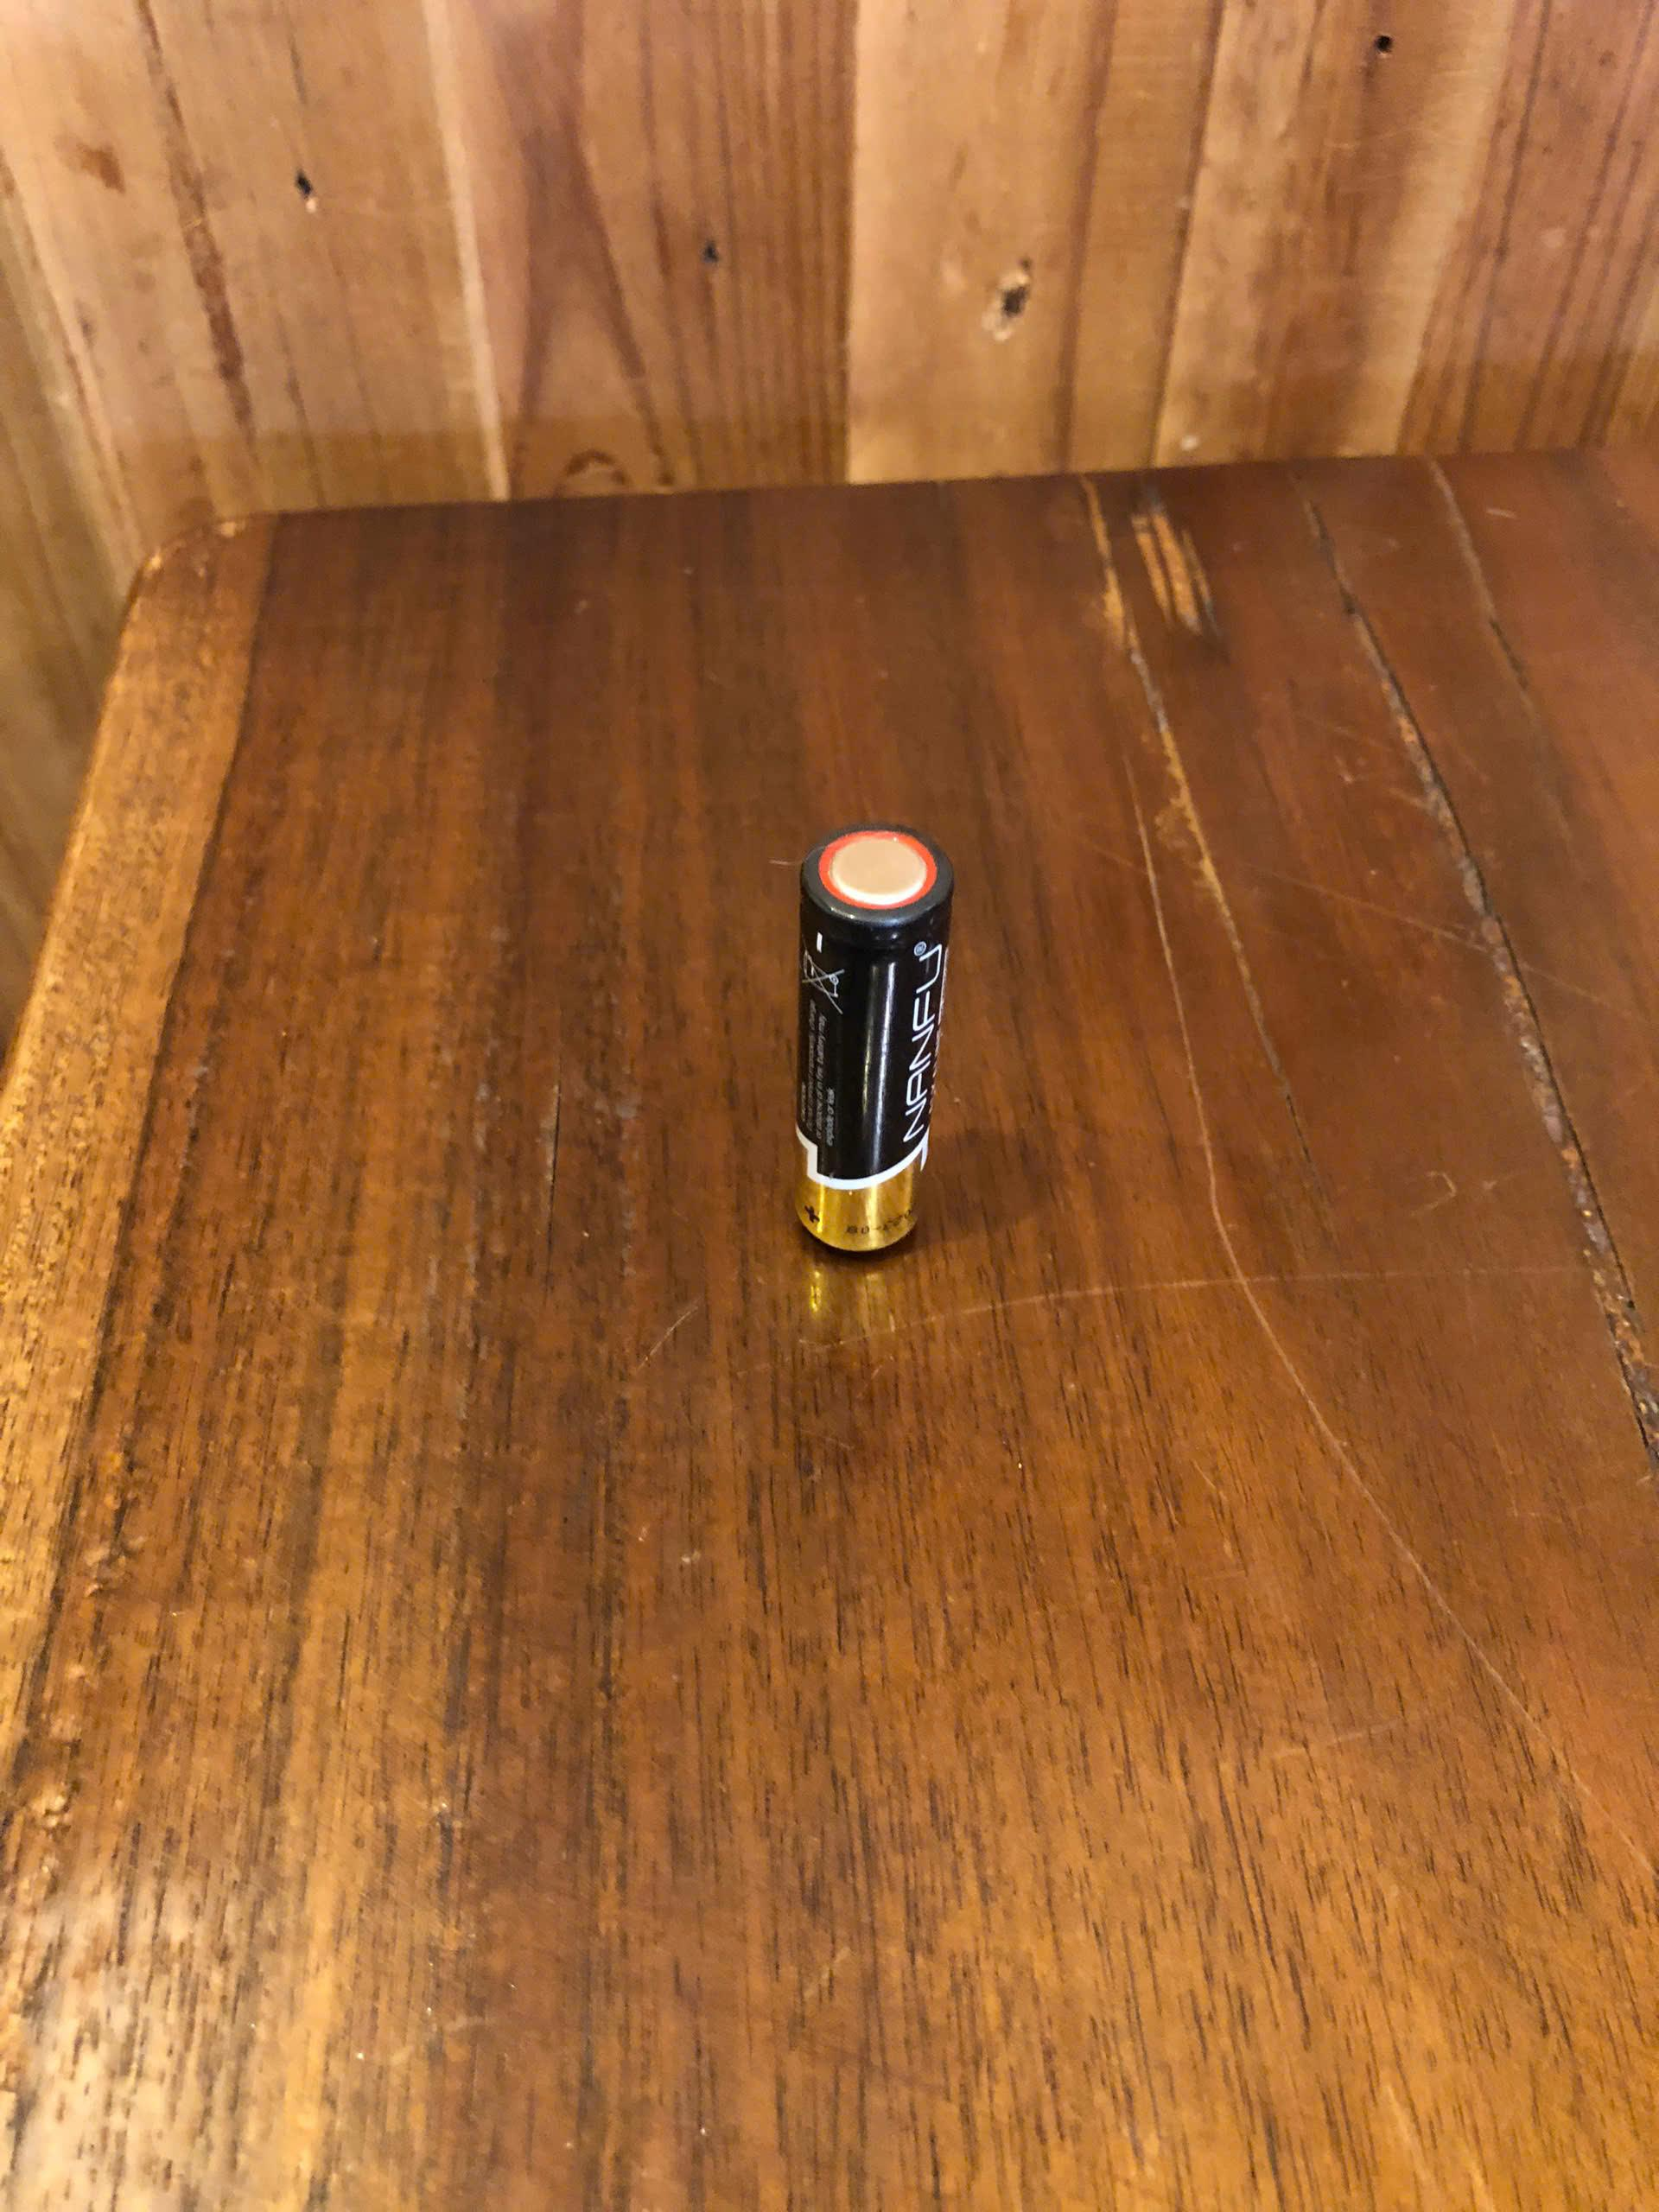Con lai: (795, 822, 957, 1263)
